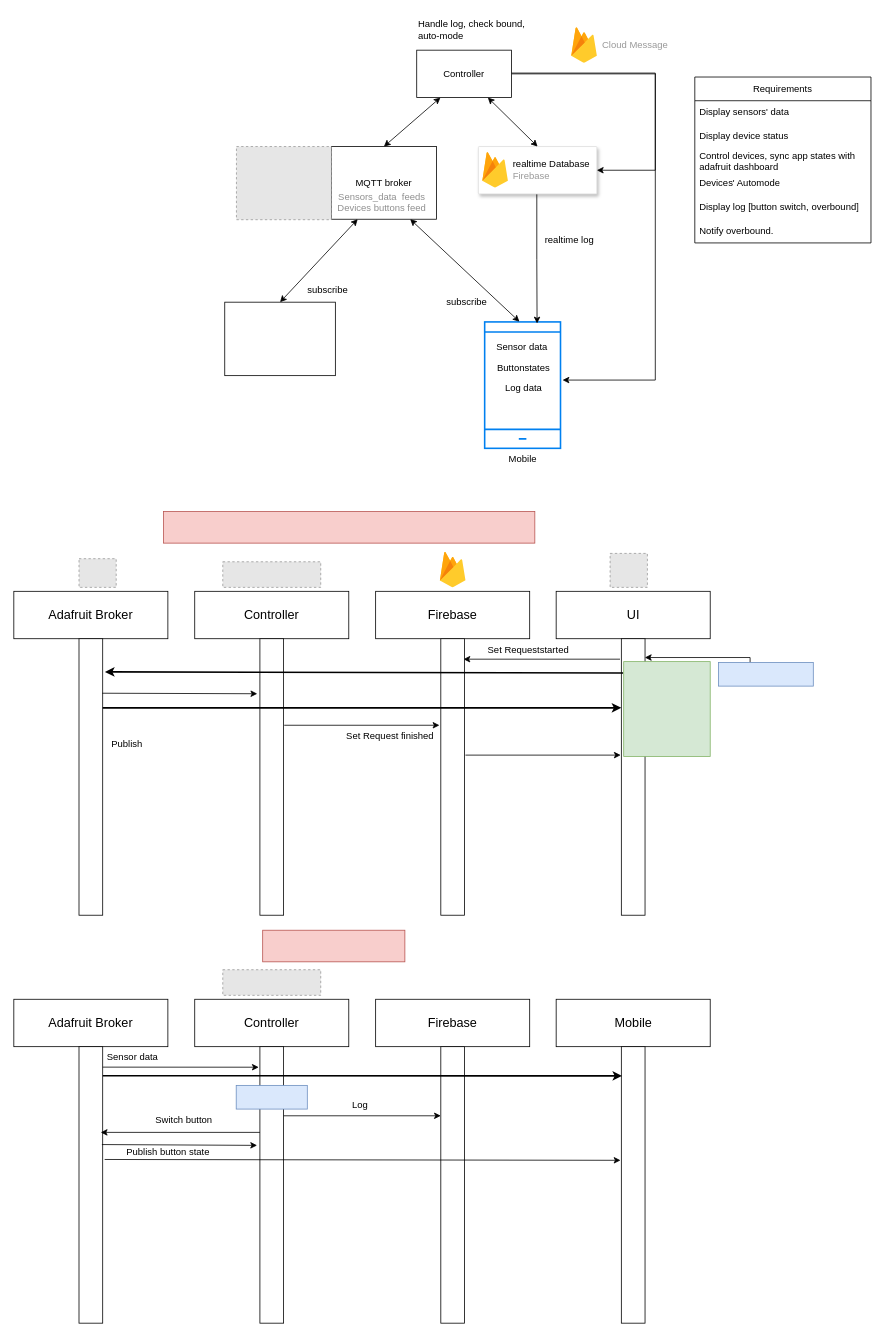
This 885x1337 diagram has some shape labels left out. Grey dashed boxes stand in for pictures. The centre of each missing label's shape, as x and y in pixels:
"ada DashBoard" belongs at point 279,338.
"Checkbound" belongs at point 271,1097.
"Checkbound flow" belongs at point 333,945.
"display LOADING" belongs at point 666,708.
"Sync Button state Mobile and Controller - (optimal)" belongs at point 349,527.
"Turn on Auto mode" belongs at point 765,674.
